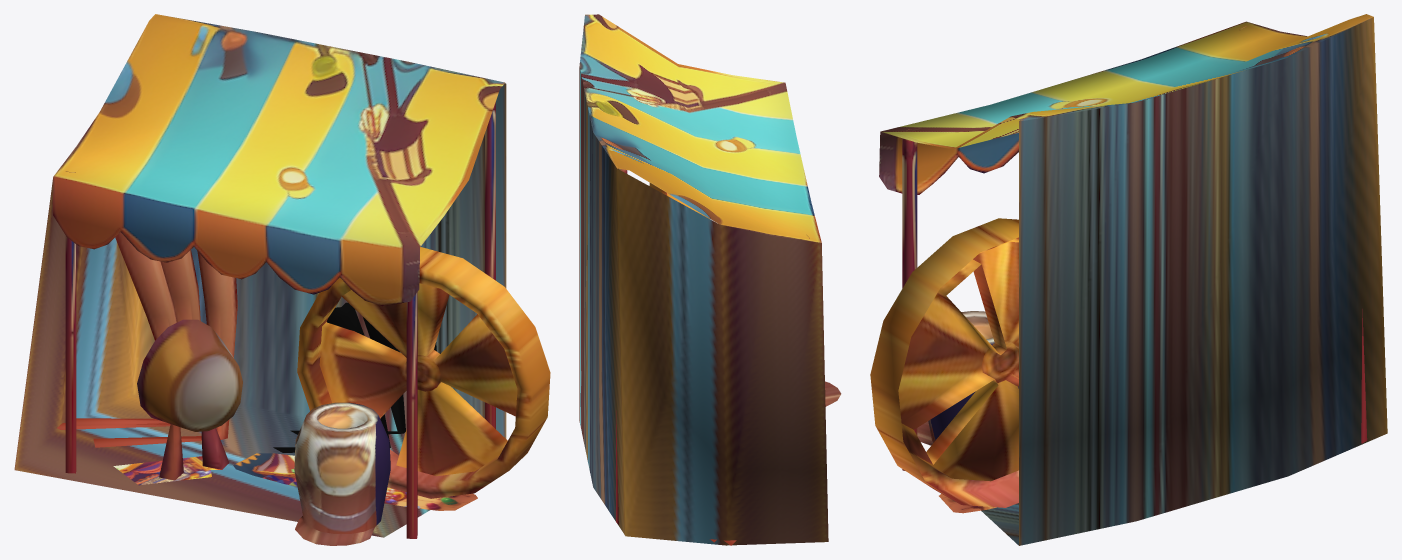
Rendered from stage_01_1.fbx.
3 views of the same model, side by side, from view 1: azimuth 30°, elevation 25°; view 2: azimuth 150°, elevation 25°; view 3: azimuth 270°, elevation 25° (orthographic). The views are drawn at different scales.
Parts seen in each view (by area): view 1: 1_1, 1_6, 1_3, 1_4, 1_5, 1_2; view 2: 1_1; view 3: 1_1, 1_6, 1_4.
Part boxes in pixels (x1=…): 1_1: x1=14, y1=14, x2=506, y2=538; 1_6: x1=233, y1=247, x2=550, y2=510; 1_3: x1=113, y1=319, x2=242, y2=485; 1_4: x1=294, y1=402, x2=390, y2=545; 1_5: x1=57, y1=232, x2=237, y2=447; 1_2: x1=273, y1=302, x2=436, y2=452; 1_1: x1=579, y1=14, x2=828, y2=545; 1_1: x1=879, y1=14, x2=1387, y2=545; 1_6: x1=870, y1=218, x2=1018, y2=513; 1_4: x1=917, y1=311, x2=1018, y2=445.
Bounding box in the file's own units: 290 × 283 × 311.
